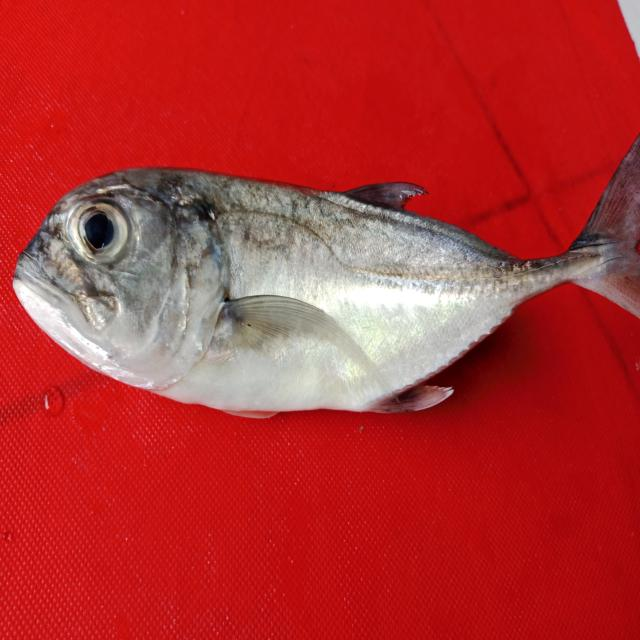ikan: (5, 94, 630, 432)
